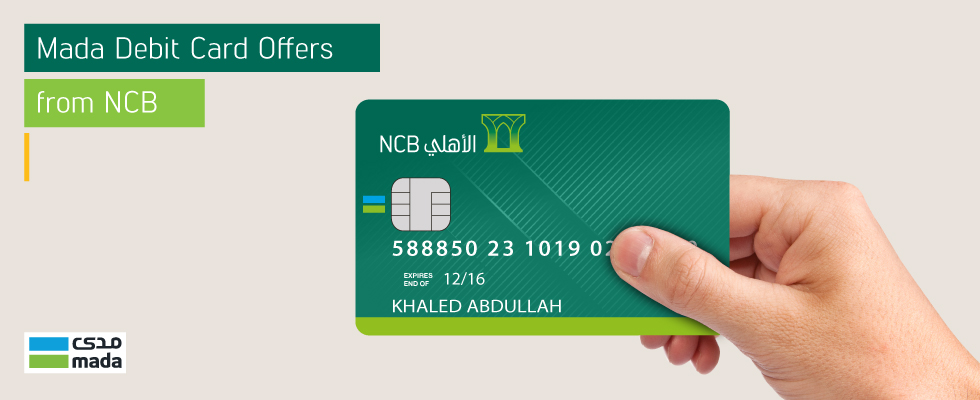tarjeta: (354, 97, 733, 337)
